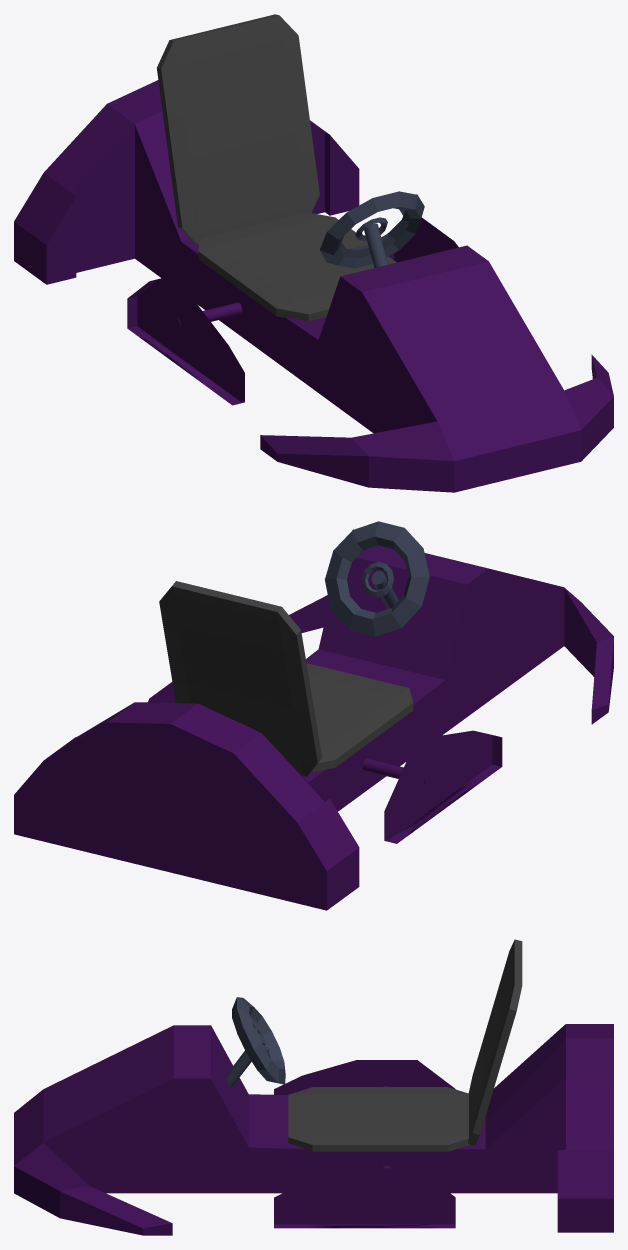
Rendered from kart1ct.fbx.
3 renders of one model, top to bottom at view 1: azimuth 30°, elevation 25°; view 2: azimuth 150°, elevation 25°; view 3: azimuth 270°, elevation 25°, orthographic. The views are drawn at different scales.
Parts seen in each view (by area): view 1: Cadeira; view 2: Cadeira; view 3: Cadeira.
Boxes of the visible parts, x1=… form: Cadeira: x1=14, y1=14, x2=613, y2=492; Cadeira: x1=14, y1=521, x2=613, y2=910; Cadeira: x1=14, y1=939, x2=613, y2=1235.
Size of the model in its own units: 183 by 128 by 333.
